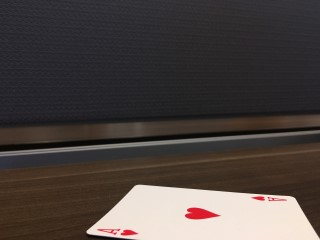AceOfHearts: (86, 183, 318, 240)
